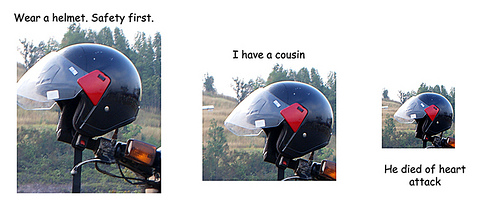helmet: (28, 44, 156, 136), (231, 78, 333, 159), (397, 91, 452, 142)
